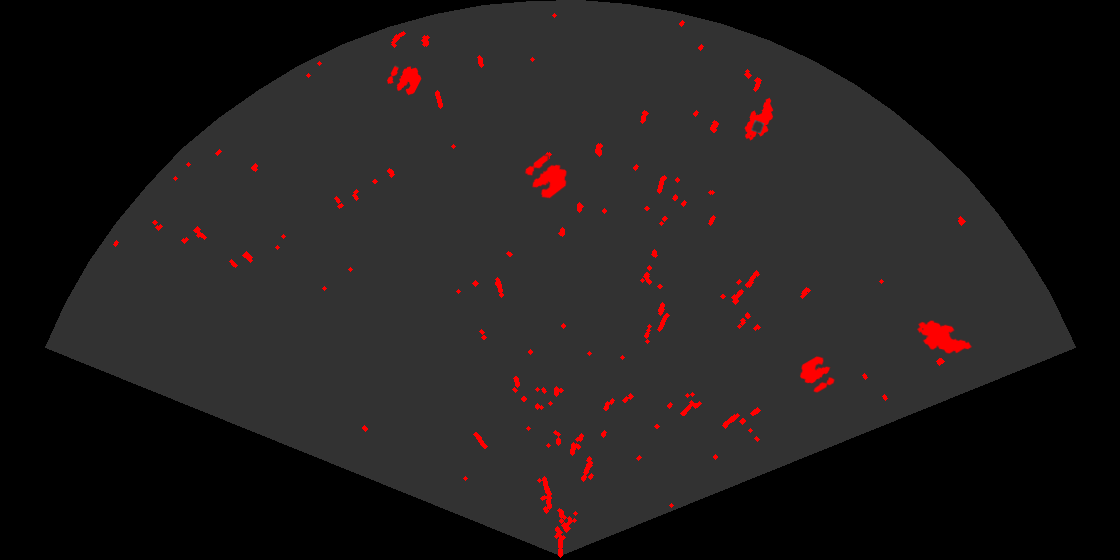AUV: (915, 319, 974, 355), (743, 96, 775, 142)
ball: (523, 153, 569, 200), (798, 355, 837, 394), (385, 65, 423, 97)
